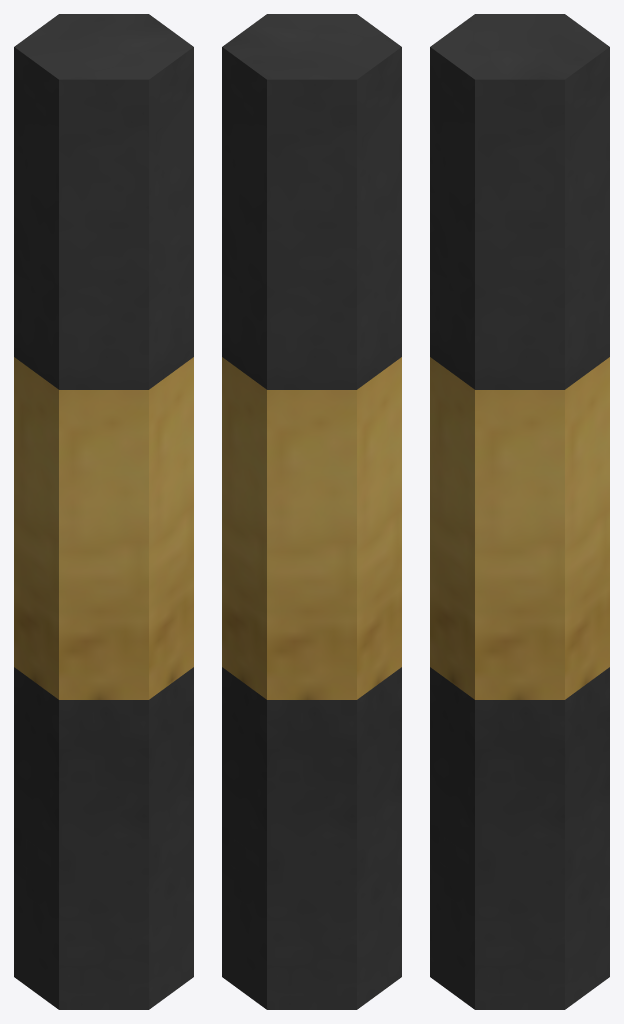
The model's file is pillar.fbx.
The picture shows the model from 3 angles, left to right: view 1: azimuth 30°, elevation 25°; view 2: azimuth 150°, elevation 25°; view 3: azimuth 270°, elevation 25°; orthographic projection.
Visible parts, largest first — view 1: pillar; view 2: pillar; view 3: pillar.
Boxes of the visible parts, x1,y1,x2,y2 form: pillar: [14, 14, 193, 1009]; pillar: [222, 14, 401, 1009]; pillar: [430, 14, 609, 1009].
Bounding box in the file's own units: 17.36 × 114 × 20.04.
